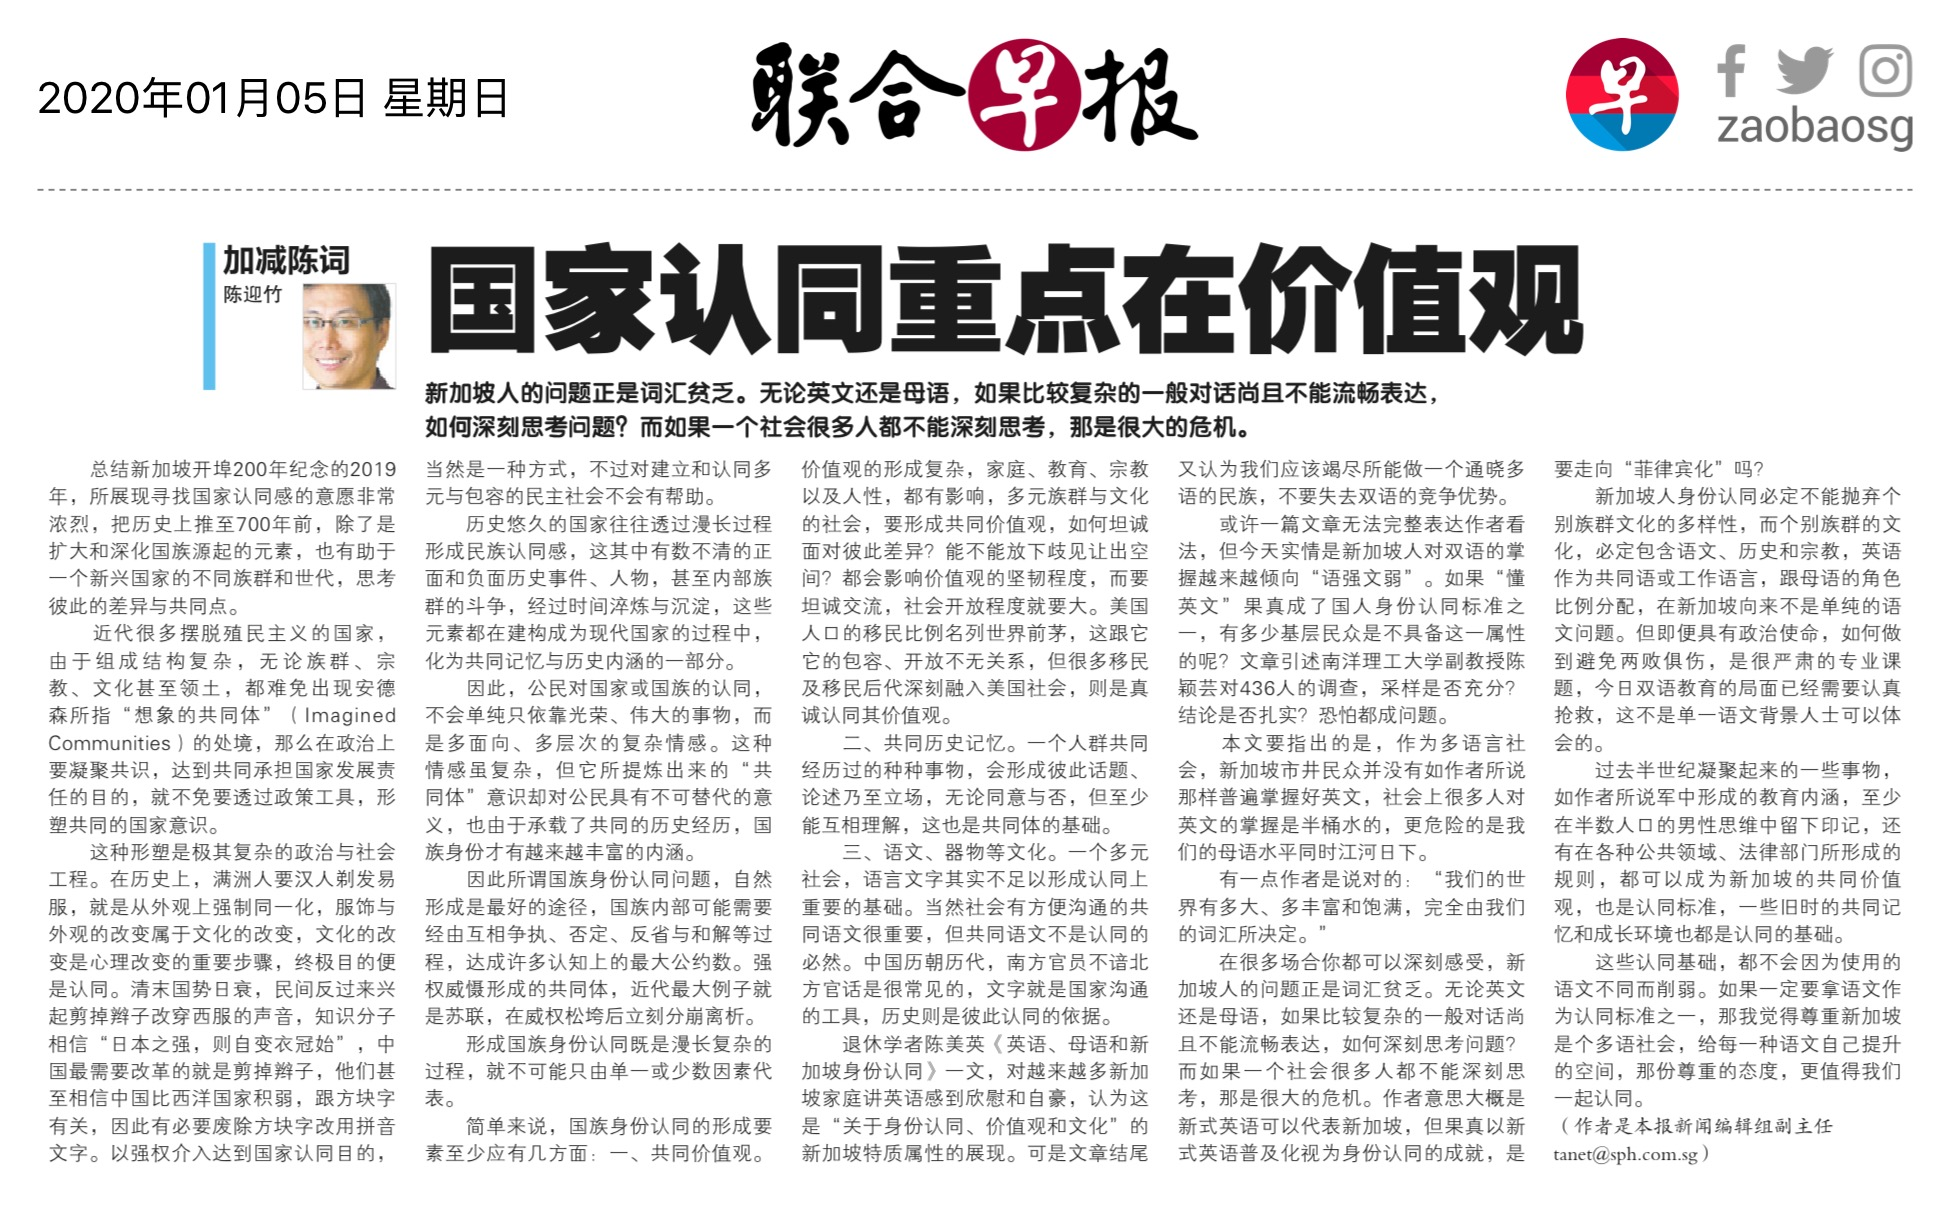heading: (422, 234, 1594, 368)
